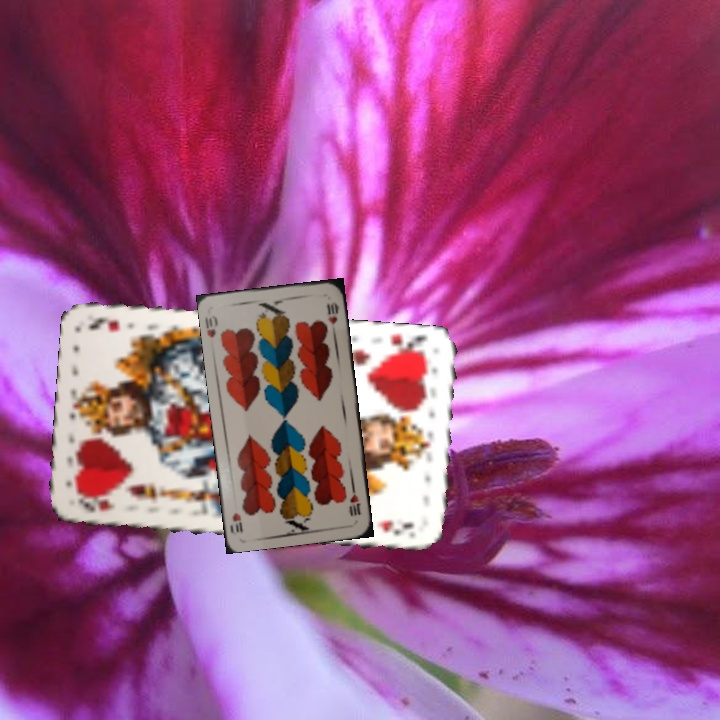H10: (346, 481, 363, 519), (202, 311, 220, 340)
HK: (381, 330, 431, 359), (75, 493, 117, 515)
